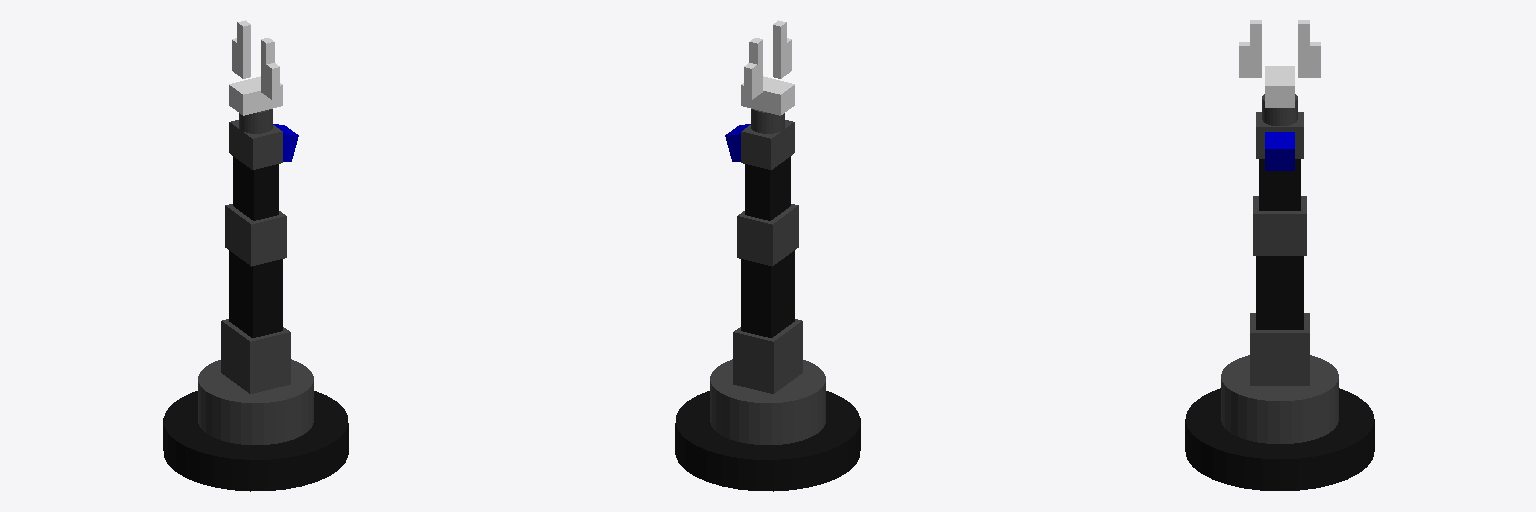
robot.urdf — robot_moveit_demo:
<?xml version="1.0"?>
<robot name="robot_moveit_demo">
  
  <!-- ==================== 材质定义 ==================== -->
  <material name="black">
    <color rgba="0.1 0.1 0.1 1.0"/>
  </material>
  <material name="dark_grey">
    <color rgba="0.3 0.3 0.3 1.0"/>
  </material>
  <material name="white">
    <color rgba="0.9 0.9 0.9 1.0"/>
  </material>
  <material name="blue">
    <color rgba="0.0 0.0 0.8 1.0"/>
  </material>

  <!-- ==================== 底座 (Base) ==================== -->
  <link name="base_link">
    <visual>
      <origin xyz="0 0 0.015" rpy="0 0 0"/>
      <geometry>
        <cylinder radius="0.08" length="0.03"/>
      </geometry>
      <material name="black"/>
    </visual>
    <collision>
      <origin xyz="0 0 0.015" rpy="0 0 0"/>
      <geometry>
        <cylinder radius="0.08" length="0.03"/>
      </geometry>
    </collision>
    <inertial>
      <mass value="0.5"/>
      <origin xyz="0 0 0.015" rpy="0 0 0"/>
      <inertia ixx="0.001" ixy="0" ixz="0" iyy="0.001" iyz="0" izz="0.001"/>
    </inertial>
  </link>

  <!-- ==================== 关节1: 腰部旋转 (Waist/Base Rotation) ==================== -->
  <joint name="joint1_waist" type="revolute">
    <parent link="base_link"/>
    <child link="link1_turntable"/>
    <origin xyz="0 0 0.03" rpy="0 0 0"/>
    <axis xyz="0 0 1"/>
    <limit lower="-3.14159" upper="3.14159" effort="10" velocity="1.0"/>
  </joint>

  <link name="link1_turntable">
    <visual>
      <origin xyz="0 0 0.02" rpy="0 0 0"/>
      <geometry>
        <cylinder radius="0.05" length="0.04"/>
      </geometry>
      <material name="dark_grey"/>
    </visual>
    <collision>
      <origin xyz="0 0 0.02" rpy="0 0 0"/>
      <geometry>
        <cylinder radius="0.05" length="0.04"/>
      </geometry>
    </collision>
    <inertial>
      <mass value="0.3"/>
      <origin xyz="0 0 0.02" rpy="0 0 0"/>
      <inertia ixx="0.0005" ixy="0" ixz="0" iyy="0.0005" iyz="0" izz="0.0005"/>
    </inertial>
  </link>

  <!-- ==================== 关节2: 肩部 (Shoulder) ==================== -->
  <joint name="joint2_shoulder" type="revolute">
    <parent link="link1_turntable"/>
    <child link="link2_upper_arm"/>
    <origin xyz="0 0 0.04" rpy="0 0 0"/>
    <axis xyz="0 1 0"/>
    <limit lower="-1.57" upper="1.57" effort="10" velocity="1.0"/>
  </joint>

  <!-- 肩部舵机壳体 -->
  <link name="link2_upper_arm">
    <visual>
      <origin xyz="0 0 0.025" rpy="0 0 0"/>
      <geometry>
        <box size="0.04 0.05 0.05"/>
      </geometry>
      <material name="dark_grey"/>
    </visual>
    <!-- 上臂连杆 -->
    <visual>
      <origin xyz="0 0 0.08" rpy="0 0 0"/>
      <geometry>
        <box size="0.03 0.04 0.08"/>
      </geometry>
      <material name="black"/>
    </visual>
    <collision>
      <origin xyz="0 0 0.065" rpy="0 0 0"/>
      <geometry>
        <box size="0.04 0.05 0.13"/>
      </geometry>
    </collision>
    <inertial>
      <mass value="0.25"/>
      <origin xyz="0 0 0.065" rpy="0 0 0"/>
      <inertia ixx="0.0004" ixy="0" ixz="0" iyy="0.0004" iyz="0" izz="0.0002"/>
    </inertial>
  </link>

  <!-- ==================== 关节3: 肘部 (Elbow) ==================== -->
  <joint name="joint3_elbow" type="revolute">
    <parent link="link2_upper_arm"/>
    <child link="link3_forearm"/>
    <origin xyz="0 0 0.12" rpy="0 0 0"/>
    <axis xyz="0 1 0"/>
    <limit lower="-2.0" upper="2.0" effort="10" velocity="1.0"/>
  </joint>

  <link name="link3_forearm">
    <visual>
      <origin xyz="0 0 0.02" rpy="0 0 0"/>
      <geometry>
        <box size="0.035 0.045 0.04"/>
      </geometry>
      <material name="dark_grey"/>
    </visual>
    <!-- 前臂连杆 -->
    <visual>
      <origin xyz="0 0 0.06" rpy="0 0 0"/>
      <geometry>
        <box size="0.025 0.035 0.06"/>
      </geometry>
      <material name="black"/>
    </visual>
    <collision>
      <origin xyz="0 0 0.05" rpy="0 0 0"/>
      <geometry>
        <box size="0.035 0.045 0.1"/>
      </geometry>
    </collision>
    <inertial>
      <mass value="0.2"/>
      <origin xyz="0 0 0.05" rpy="0 0 0"/>
      <inertia ixx="0.0003" ixy="0" ixz="0" iyy="0.0003" iyz="0" izz="0.0001"/>
    </inertial>
  </link>

  <!-- ==================== 关节4: 腕部俯仰 (Wrist Pitch) ==================== -->
  <joint name="joint4_wrist_pitch" type="revolute">
    <parent link="link3_forearm"/>
    <child link="link4_wrist"/>
    <origin xyz="0 0 0.09" rpy="0 0 0"/>
    <axis xyz="0 1 0"/>
    <limit lower="-1.57" upper="1.57" effort="5" velocity="1.0"/>
  </joint>

  <link name="link4_wrist">
    <visual>
      <origin xyz="0 0 0.015" rpy="0 0 0"/>
      <geometry>
        <box size="0.03 0.04 0.03"/>
      </geometry>
      <material name="dark_grey"/>
    </visual>
    <collision>
      <origin xyz="0 0 0.015" rpy="0 0 0"/>
      <geometry>
        <box size="0.03 0.04 0.03"/>
      </geometry>
    </collision>
    <inertial>
      <mass value="0.1"/>
      <origin xyz="0 0 0.015" rpy="0 0 0"/>
      <inertia ixx="0.0001" ixy="0" ixz="0" iyy="0.0001" iyz="0" izz="0.0001"/>
    </inertial>
  </link>

  <!-- ==================== 关节5: 腕部旋转 (Wrist Roll) ==================== -->
  <joint name="joint5_wrist_roll" type="revolute">
    <parent link="link4_wrist"/>
    <child link="link5_wrist_rotate"/>
    <origin xyz="0 0 0.03" rpy="0 0 0"/>
    <axis xyz="0 0 1"/>
    <limit lower="-3.14159" upper="3.14159" effort="5" velocity="1.0"/>
  </joint>

  <link name="link5_wrist_rotate">
    <visual>
      <origin xyz="0 0 0.01" rpy="0 0 0"/>
      <geometry>
        <cylinder radius="0.015" length="0.02"/>
      </geometry>
      <material name="dark_grey"/>
    </visual>
    <collision>
      <origin xyz="0 0 0.01" rpy="0 0 0"/>
      <geometry>
        <cylinder radius="0.015" length="0.02"/>
      </geometry>
    </collision>
    <inertial>
      <mass value="0.05"/>
      <origin xyz="0 0 0.01" rpy="0 0 0"/>
      <inertia ixx="0.00005" ixy="0" ixz="0" iyy="0.00005" iyz="0" izz="0.00005"/>
    </inertial>
  </link>

  <!-- ==================== 关节6: 夹爪基座 (Gripper Base) ==================== -->
  <joint name="joint6_gripper_base" type="fixed">
    <parent link="link5_wrist_rotate"/>
    <child link="gripper_base"/>
    <origin xyz="0 0 0.02" rpy="0 0 0"/>
  </joint>

  <link name="gripper_base">
    <visual>
      <origin xyz="0 0 0.01" rpy="0 0 0"/>
      <geometry>
        <box size="0.04 0.025 0.02"/>
      </geometry>
      <material name="white"/>
    </visual>
    <collision>
      <origin xyz="0 0 0.01" rpy="0 0 0"/>
      <geometry>
        <box size="0.04 0.025 0.02"/>
      </geometry>
    </collision>
    <inertial>
      <mass value="0.03"/>
      <origin xyz="0 0 0.01" rpy="0 0 0"/>
      <inertia ixx="0.00002" ixy="0" ixz="0" iyy="0.00002" iyz="0" izz="0.00002"/>
    </inertial>
  </link>

  <!-- ==================== 左夹爪手指 (Left Finger) ==================== -->
  <joint name="gripper_left_joint" type="prismatic">
    <parent link="gripper_base"/>
    <child link="gripper_left_finger"/>
    <origin xyz="0 0.015 0.02" rpy="0 0 0"/>
    <axis xyz="0 1 0"/>
    <limit lower="0" upper="0.025" effort="5" velocity="0.5"/>
  </joint>

  <link name="gripper_left_finger">
    <!-- 连杆部分 -->
    <visual>
      <origin xyz="0 0.01 0.015" rpy="0 0 0"/>
      <geometry>
        <box size="0.008 0.02 0.03"/>
      </geometry>
      <material name="white"/>
    </visual>
    <!-- 指尖 -->
    <visual>
      <origin xyz="0 0.005 0.04" rpy="0 0 0"/>
      <geometry>
        <box size="0.008 0.01 0.02"/>
      </geometry>
      <material name="white"/>
    </visual>
    <collision>
      <origin xyz="0 0.008 0.025" rpy="0 0 0"/>
      <geometry>
        <box size="0.008 0.02 0.05"/>
      </geometry>
    </collision>
    <inertial>
      <mass value="0.015"/>
      <origin xyz="0 0.008 0.025" rpy="0 0 0"/>
      <inertia ixx="0.00001" ixy="0" ixz="0" iyy="0.00001" iyz="0" izz="0.00001"/>
    </inertial>
  </link>

  <!-- ==================== 右夹爪手指 (Right Finger) ==================== -->
  <joint name="gripper_right_joint" type="prismatic">
    <parent link="gripper_base"/>
    <child link="gripper_right_finger"/>
    <origin xyz="0 -0.015 0.02" rpy="0 0 0"/>
    <axis xyz="0 -1 0"/>
    <limit lower="0" upper="0.025" effort="5" velocity="0.5"/>
  </joint>

  <link name="gripper_right_finger">
    <!-- 连杆部分 -->
    <visual>
      <origin xyz="0 -0.01 0.015" rpy="0 0 0"/>
      <geometry>
        <box size="0.008 0.02 0.03"/>
      </geometry>
      <material name="white"/>
    </visual>
    <!-- 指尖 -->
    <visual>
      <origin xyz="0 -0.005 0.04" rpy="0 0 0"/>
      <geometry>
        <box size="0.008 0.01 0.02"/>
      </geometry>
      <material name="white"/>
    </visual>
    <collision>
      <origin xyz="0 -0.008 0.025" rpy="0 0 0"/>
      <geometry>
        <box size="0.008 0.02 0.05"/>
      </geometry>
    </collision>
    <inertial>
      <mass value="0.015"/>
      <origin xyz="0 -0.008 0.025" rpy="0 0 0"/>
      <inertia ixx="0.00001" ixy="0" ixz="0" iyy="0.00001" iyz="0" izz="0.00001"/>
    </inertial>
  </link>

  <!-- ==================== 摄像头 (Eye-in-Hand Camera) ==================== -->
  <joint name="camera_joint" type="fixed">
    <parent link="link4_wrist"/>
    <child link="camera_link"/>
    <origin xyz="0.02 0 0.01" rpy="0 0.3 0"/>
  </joint>

  <link name="camera_link">
    <visual>
      <origin xyz="0 0 0" rpy="0 0 0"/>
      <geometry>
        <box size="0.025 0.025 0.025"/>
      </geometry>
      <material name="blue"/>
    </visual>
    <collision>
      <origin xyz="0 0 0" rpy="0 0 0"/>
      <geometry>
        <box size="0.025 0.025 0.025"/>
      </geometry>
    </collision>
    <inertial>
      <mass value="0.02"/>
      <origin xyz="0 0 0" rpy="0 0 0"/>
      <inertia ixx="0.00001" ixy="0" ixz="0" iyy="0.00001" iyz="0" izz="0.00001"/>
    </inertial>
  </link>

  <!-- 摄像头光学坐标系 -->
  <joint name="camera_optical_joint" type="fixed">
    <parent link="camera_link"/>
    <child link="camera_optical_frame"/>
    <origin xyz="0 0 0" rpy="-1.5708 0 -1.5708"/>
  </joint>

  <link name="camera_optical_frame"/>

  <!-- ==================== 末端执行器坐标系 (End Effector Frame) ==================== -->
  <joint name="ee_fixed_joint" type="fixed">
    <parent link="gripper_base"/>
    <child link="ee_link"/>
    <origin xyz="0 0 0.055" rpy="0 0 0"/>
  </joint>

  <link name="ee_link"/>

</robot>

--- Render facts (derived) ---
The picture shows the robot from 3 angles, left to right: view 1: azimuth 30°, elevation 25°; view 2: azimuth 150°, elevation 25°; view 3: azimuth 270°, elevation 25°; orthographic projection.
Robot: robot_moveit_demo — 12 links, 11 joints (5 revolute, 2 prismatic, 4 fixed); root link base_link; default pose: every joint at zero.
Visible links, largest first — view 1: base_link, link2_upper_arm, link1_turntable, link3_forearm, link4_wrist, gripper_base, gripper_right_finger, gripper_left_finger, link5_wrist_rotate; view 2: base_link, link2_upper_arm, link1_turntable, link3_forearm, link4_wrist, gripper_base, gripper_left_finger, gripper_right_finger, link5_wrist_rotate; view 3: base_link, link1_turntable, link2_upper_arm, link3_forearm, gripper_base, camera_link, gripper_left_finger, gripper_right_finger, link4_wrist, link5_wrist_rotate.
Link boxes in pixels (bbox=[...]): base_link: bbox=[163, 391, 348, 491]; link2_upper_arm: bbox=[221, 250, 290, 393]; link1_turntable: bbox=[198, 359, 313, 444]; link3_forearm: bbox=[225, 156, 286, 266]; link4_wrist: bbox=[229, 120, 282, 169]; gripper_base: bbox=[229, 76, 282, 115]; gripper_right_finger: bbox=[261, 38, 279, 99]; gripper_left_finger: bbox=[232, 20, 250, 78]; link5_wrist_rotate: bbox=[239, 109, 272, 133]; base_link: bbox=[675, 391, 860, 491]; link2_upper_arm: bbox=[733, 250, 802, 393]; link1_turntable: bbox=[710, 359, 825, 444]; link3_forearm: bbox=[737, 156, 798, 266]; link4_wrist: bbox=[741, 120, 794, 169]; gripper_base: bbox=[741, 76, 794, 115]; gripper_left_finger: bbox=[744, 38, 762, 99]; gripper_right_finger: bbox=[773, 20, 791, 78]; link5_wrist_rotate: bbox=[751, 109, 784, 133]; base_link: bbox=[1185, 388, 1374, 490]; link1_turntable: bbox=[1221, 355, 1338, 443]; link2_upper_arm: bbox=[1250, 256, 1309, 385]; link3_forearm: bbox=[1253, 159, 1306, 255]; gripper_base: bbox=[1265, 66, 1294, 107]; camera_link: bbox=[1265, 132, 1294, 170]; gripper_left_finger: bbox=[1298, 20, 1320, 77]; gripper_right_finger: bbox=[1239, 20, 1261, 77]; link4_wrist: bbox=[1256, 112, 1303, 158]; link5_wrist_rotate: bbox=[1262, 94, 1297, 125].
Size in the robot's own frame: 0.16 by 0.16 by 0.4 metres.
Geometry: primitives only (box / cylinder / sphere), no mesh files.
